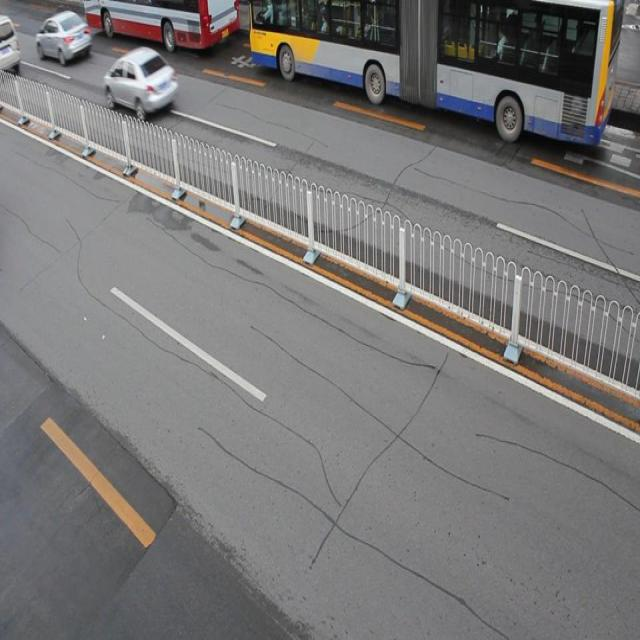car: (104, 45, 178, 120), (36, 11, 92, 66)
van: (249, 1, 620, 148), (84, 1, 239, 50)
